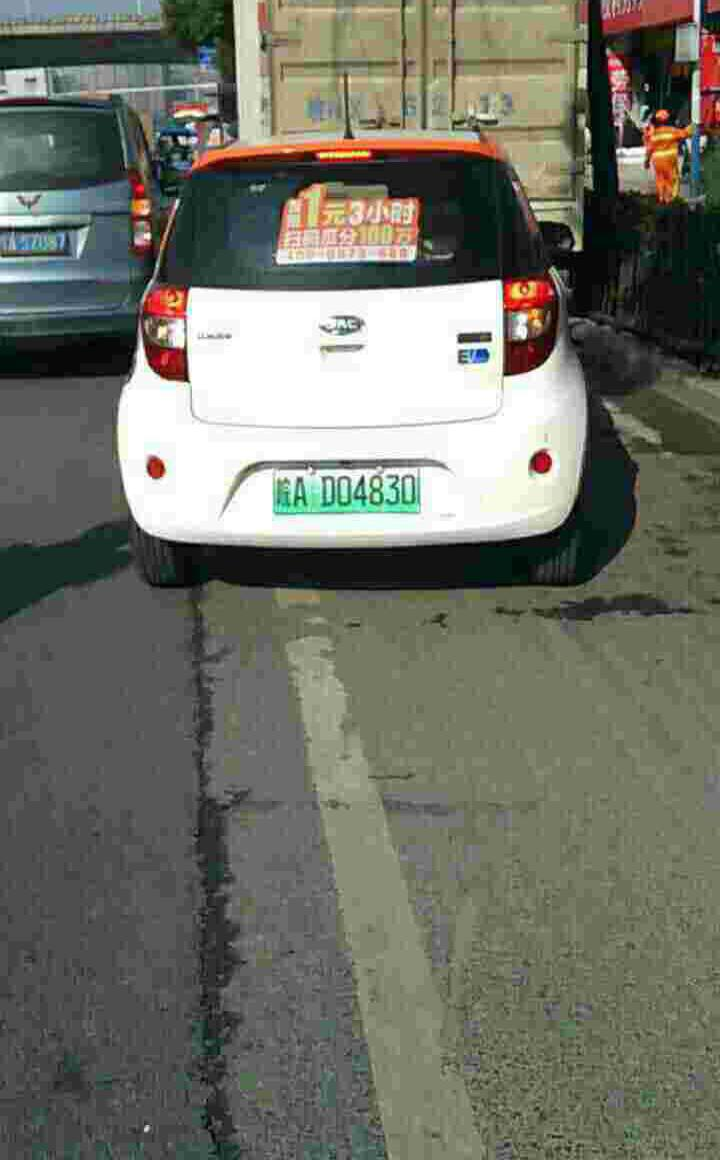car_id: (270, 465, 420, 514)
